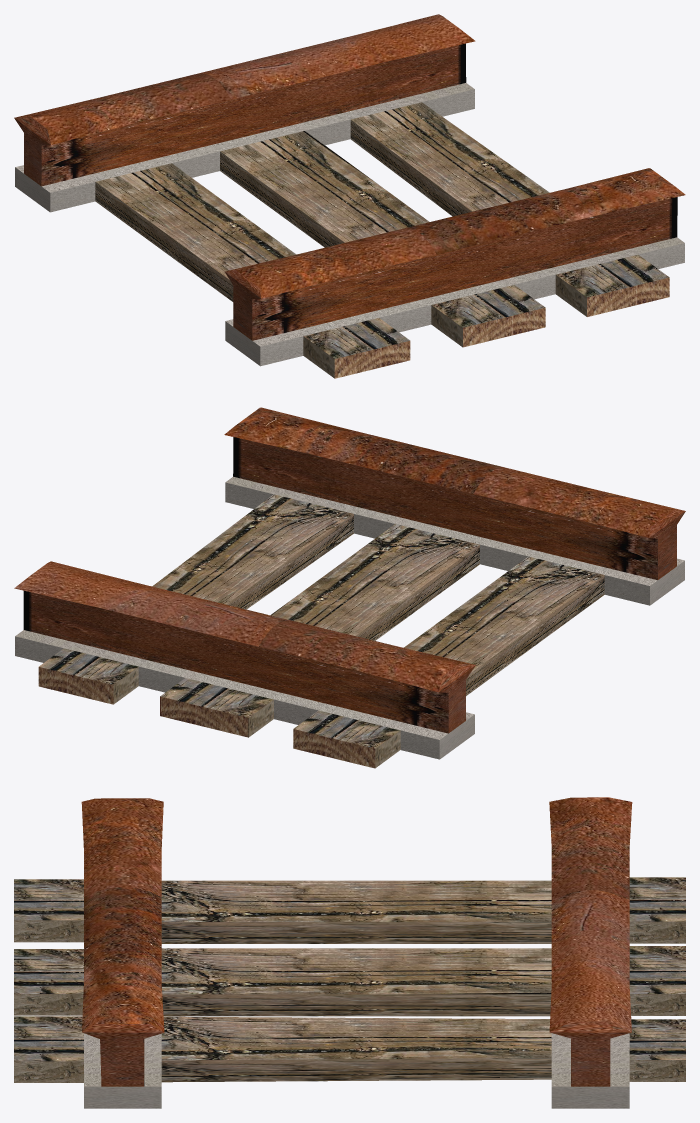
The model's file is RailStraightTex.fbx.
3 renders of one model, top to bottom at view 1: azimuth 30°, elevation 25°; view 2: azimuth 150°, elevation 25°; view 3: azimuth 270°, elevation 25°, orthographic. The views are drawn at different scales.
Parts seen in each view (by area): view 1: pCube15; view 2: pCube15; view 3: pCube15.
Part boxes in pixels (left/top/right/bottom): pCube15: left=14, top=14, right=685, bottom=378; pCube15: left=14, top=407, right=685, bottom=768; pCube15: left=14, top=797, right=685, bottom=1108.
Bounding box in the file's own units: 1 × 0.1742 × 1.23.
